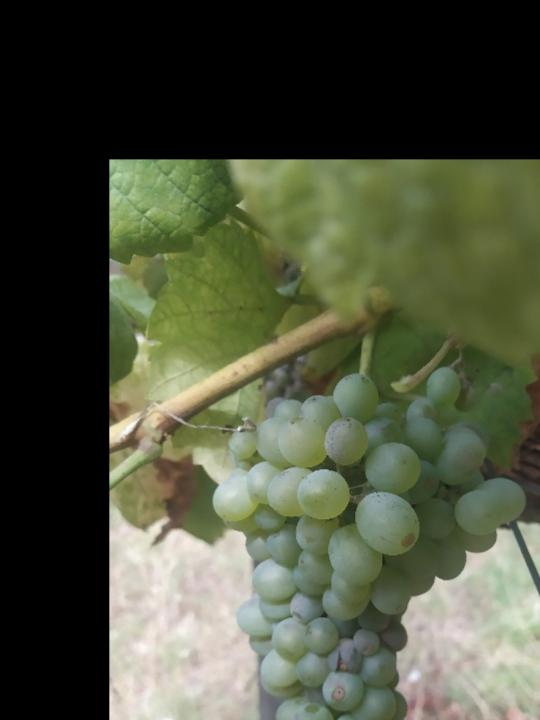grape: (212, 365, 527, 720)
